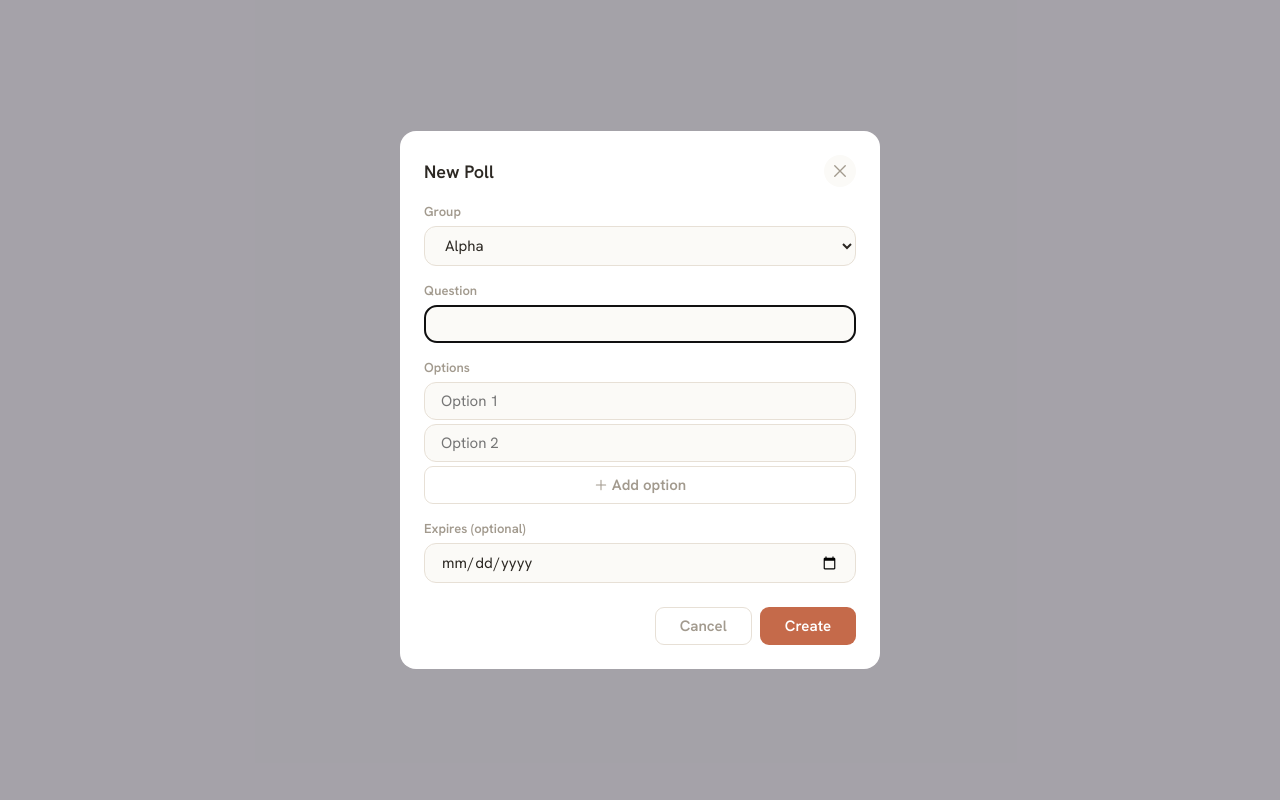
Scenario: PollCreateModal › shows an error when fewer than two options are filled
This screenshot has width=1280, height=800.
Type "Pick one" into the field labelled "Question" at (640, 324), box [424, 305, 856, 343]
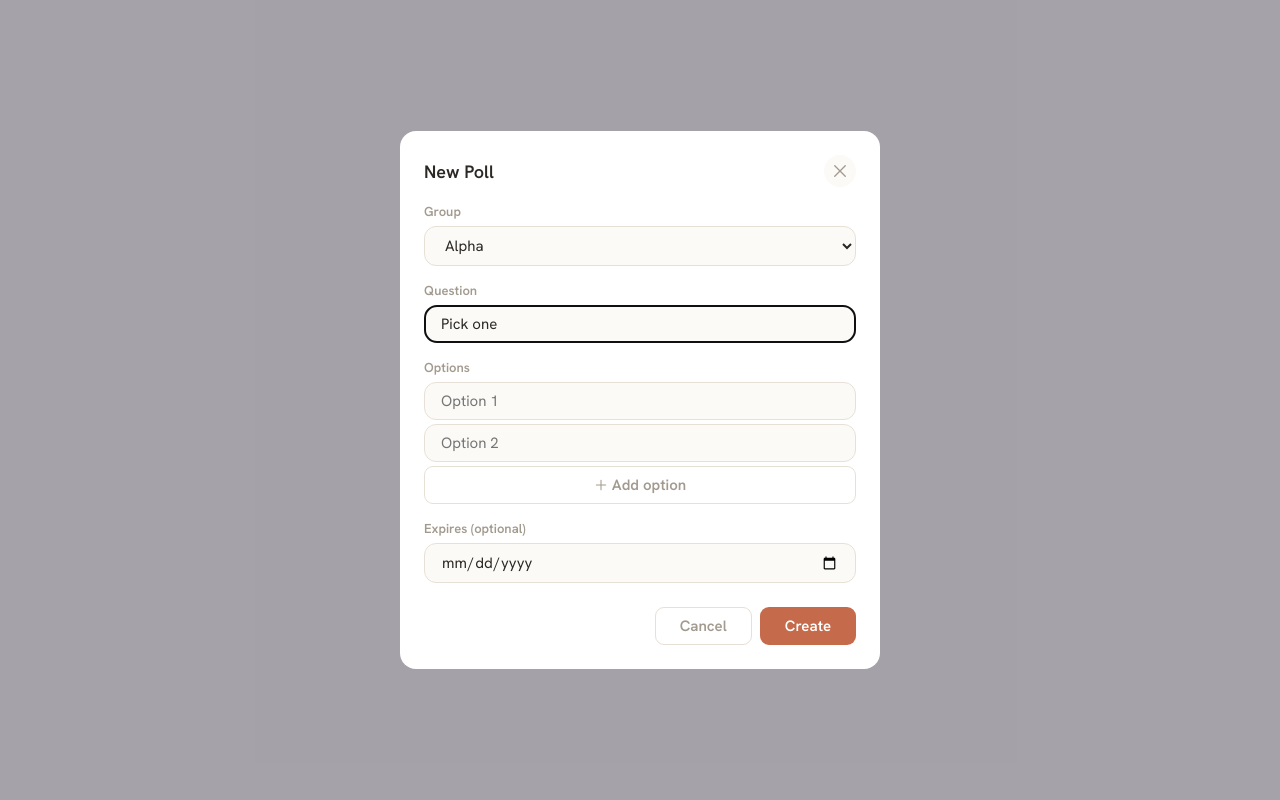
Type "Only one" into the field with placeholder "Option 1" at (640, 401), box [424, 382, 856, 420]
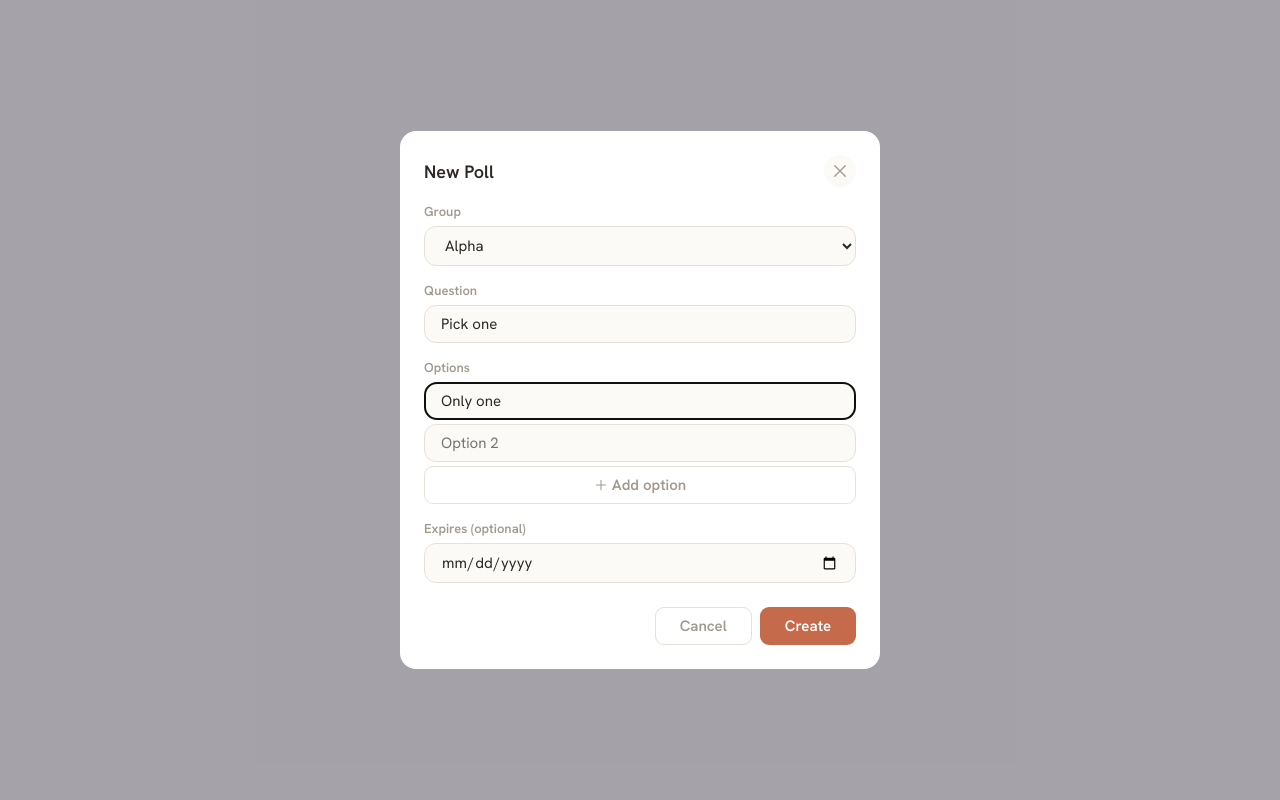
Click the button "Create" at (808, 626), box [760, 607, 856, 645]
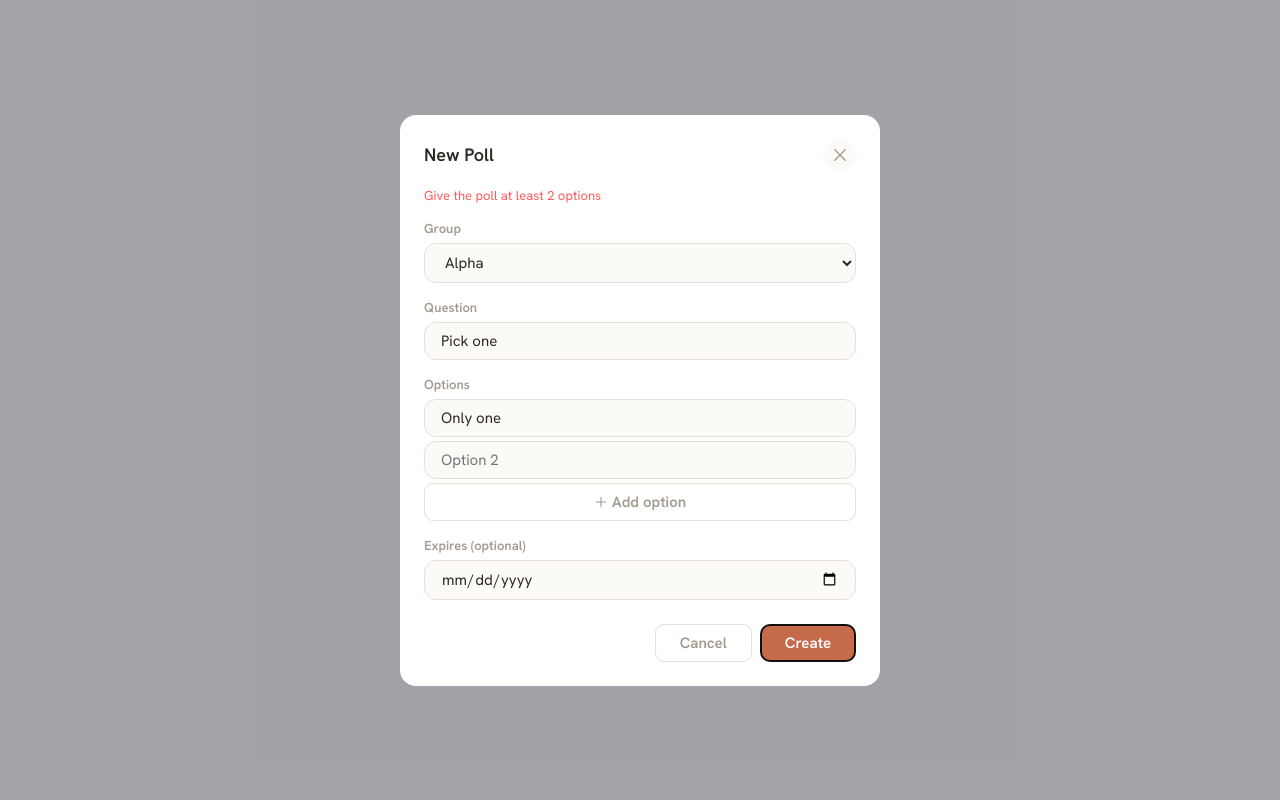
Expected: the text "Give the poll at least 2 options" is shown, [424, 186, 601, 204]
